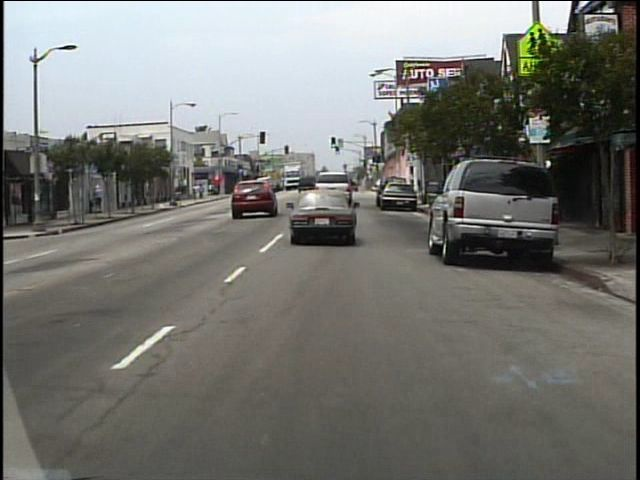person: (96, 185, 109, 214)
